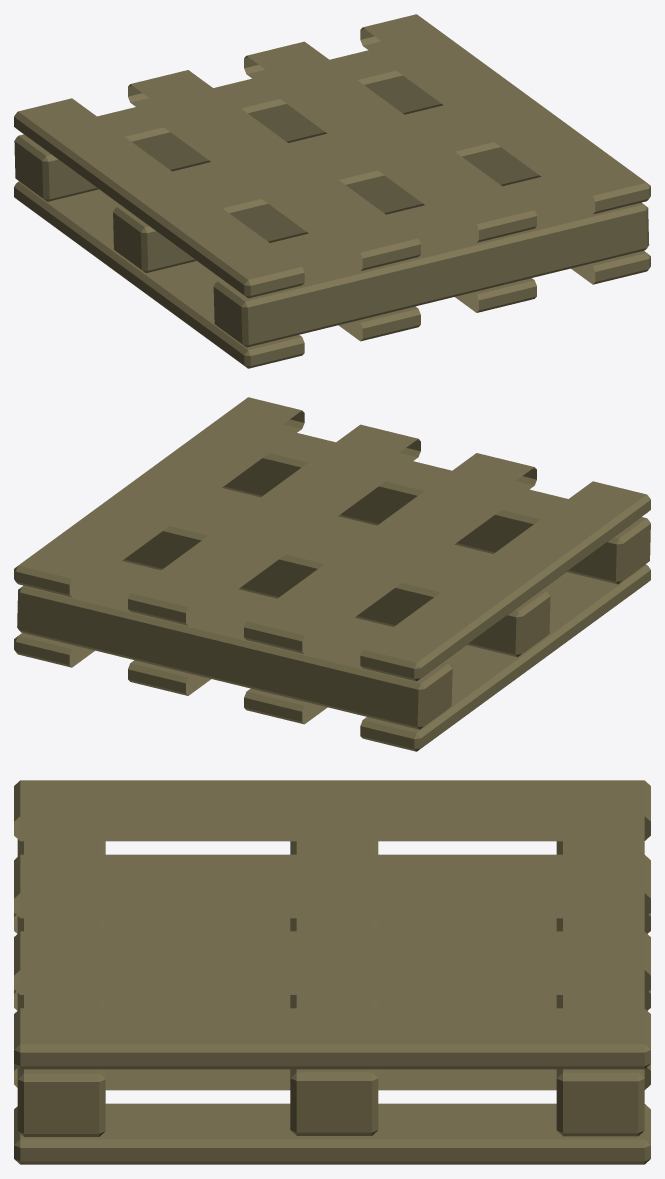
Rendered from pallete.fbx.
3 views of the same model, one above another, from view 1: azimuth 30°, elevation 25°; view 2: azimuth 150°, elevation 25°; view 3: azimuth 270°, elevation 25° (orthographic). The views are drawn at different scales.
Parts seen in each view (by area): view 1: Cube.002; view 2: Cube.002; view 3: Cube.002.
Boxes of the visible parts, x1,y1,x2,y2 form: Cube.002: [14, 14, 650, 368]; Cube.002: [14, 397, 650, 751]; Cube.002: [14, 780, 650, 1164].
Bounding box in the file's own units: 201 × 41.76 × 200.
